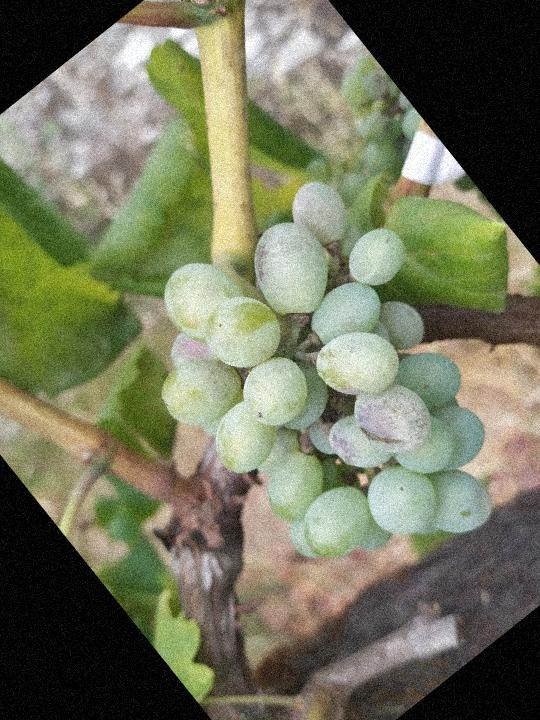grape: (95, 142, 540, 641)
